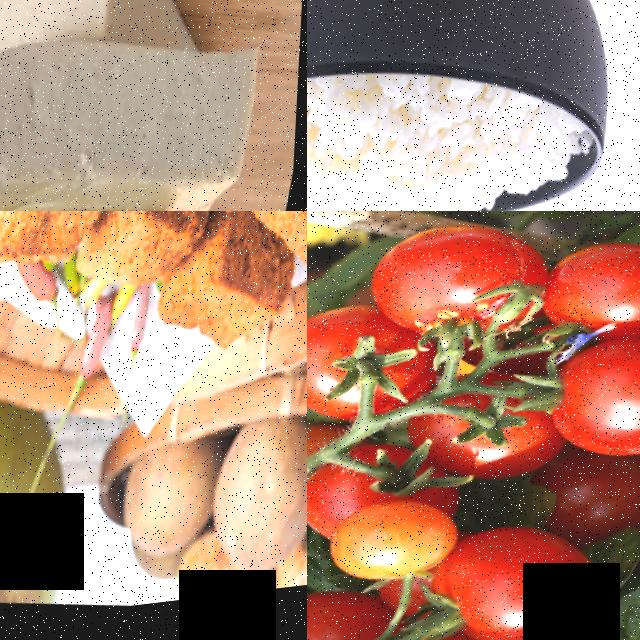tofu: (0, 12, 274, 211), (160, 223, 307, 370), (0, 211, 121, 287)
tomato: (363, 212, 562, 370), (426, 519, 619, 640), (538, 331, 640, 491), (326, 493, 468, 603), (537, 237, 640, 370)
white rice: (307, 37, 611, 211)
